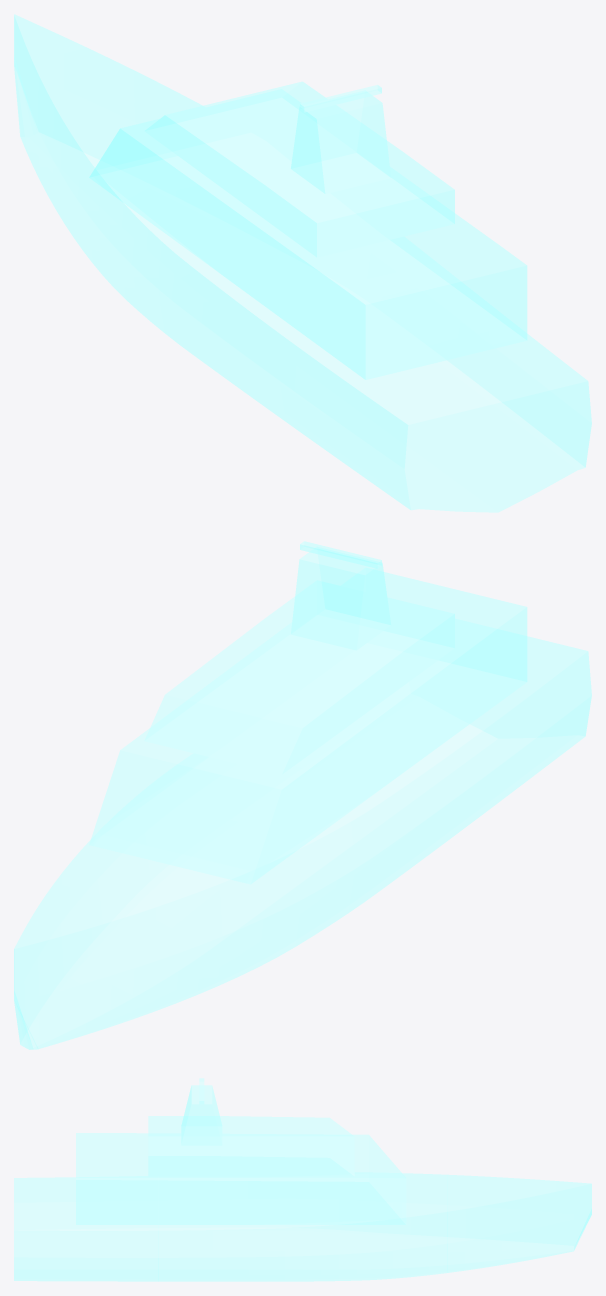
File: yacht.glb
3 renders of one model, top to bottom at view 1: azimuth 30°, elevation 25°; view 2: azimuth 150°, elevation 25°; view 3: azimuth 270°, elevation 25°, orthographic. The views are drawn at different scales.
Visible parts, largest first — view 1: Yacht_Hull_Core, Yacht_Saloon_Core, Yacht_Flybridge_Core, Yacht_Radar_Mast, Yacht_Radar_Scanner; view 2: Yacht_Hull_Core, Yacht_Saloon_Core, Yacht_Flybridge_Core, Yacht_Radar_Mast, Yacht_Radar_Scanner; view 3: Yacht_Hull_Core, Yacht_Saloon_Core, Yacht_Flybridge_Core, Yacht_Radar_Mast.
Boxes of the visible parts, left/top/right/bottom form: Yacht_Hull_Core: left=14, top=14, right=591, bottom=512; Yacht_Saloon_Core: left=89, top=89, right=527, bottom=379; Yacht_Flybridge_Core: left=144, top=81, right=454, bottom=257; Yacht_Radar_Mast: left=291, top=91, right=390, bottom=193; Yacht_Radar_Scanner: left=300, top=85, right=381, bottom=112; Yacht_Hull_Core: left=14, top=619, right=591, bottom=1049; Yacht_Saloon_Core: left=89, top=568, right=527, bottom=884; Yacht_Flybridge_Core: left=144, top=580, right=454, bottom=774; Yacht_Radar_Mast: left=291, top=547, right=390, bottom=650; Yacht_Radar_Scanner: left=300, top=541, right=381, bottom=568; Yacht_Hull_Core: left=14, top=1172, right=591, bottom=1281; Yacht_Saloon_Core: left=76, top=1133, right=406, bottom=1224; Yacht_Flybridge_Core: left=148, top=1116, right=354, bottom=1176; Yacht_Radar_Mast: left=181, top=1085, right=222, bottom=1145.
Bounding box in the file's own units: 6.66 × 9.63 × 28.
